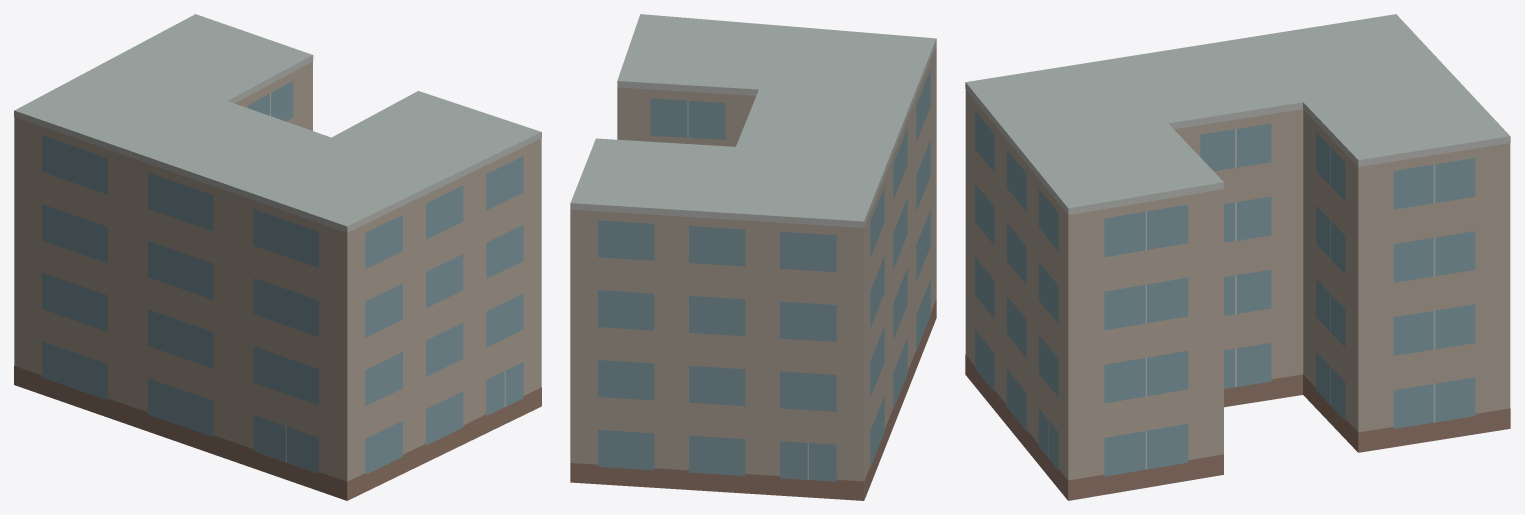
Rendered from survey-upis-32962272.glb.
3 renders of one model, left to right at view 1: azimuth 30°, elevation 25°; view 2: azimuth 150°, elevation 25°; view 3: azimuth 270°, elevation 25°, orthographic. The views are drawn at different scales.
Visible parts, largest first — view 1: survey-upis-32962272.tmp; view 2: survey-upis-32962272.tmp; view 3: survey-upis-32962272.tmp.
Part boxes in pixels (<box>): survey-upis-32962272.tmp: <box>14,14,541,500</box>; survey-upis-32962272.tmp: <box>570,14,936,500</box>; survey-upis-32962272.tmp: <box>965,14,1510,500</box>.
Bounding box in the file's own units: 14.97 × 10.5 × 17.74.
